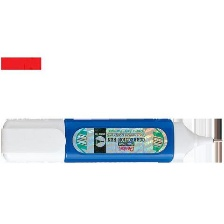correction_fluid: (0, 115, 224, 166)
